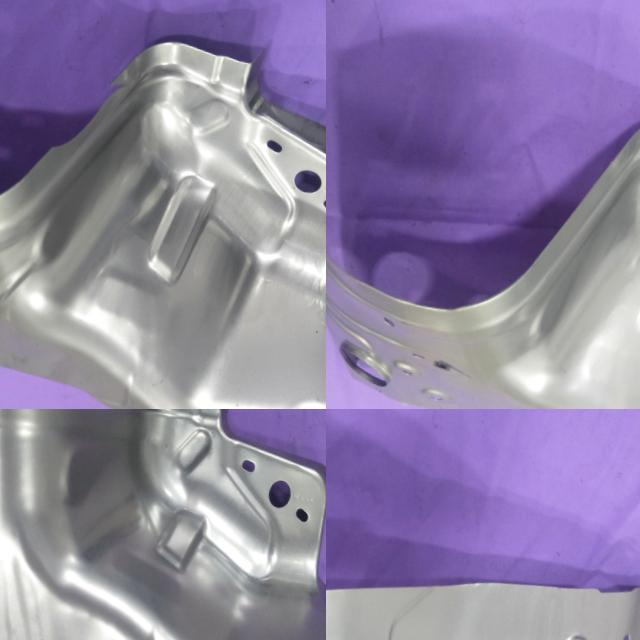Defect: (42, 52, 140, 166)
Healthy: (326, 66, 640, 409), (0, 409, 326, 640), (326, 513, 640, 640)
